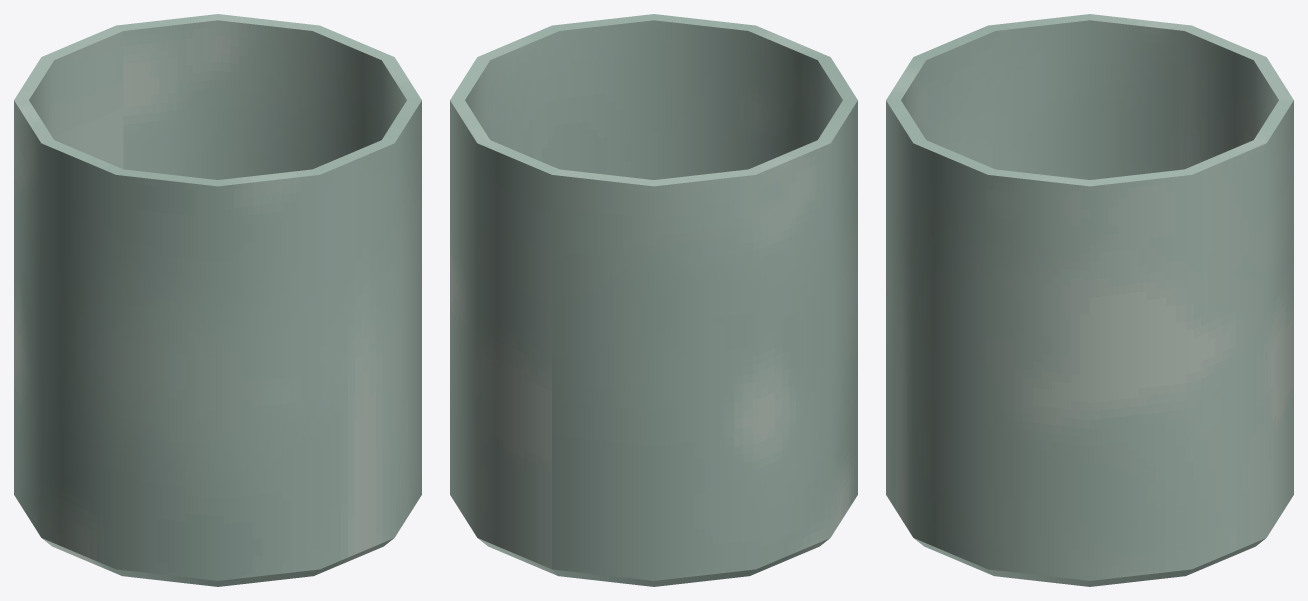
The model's file is HB_Glass_Tumbler.glb.
The picture shows the model from 3 angles, left to right: view 1: azimuth 30°, elevation 25°; view 2: azimuth 150°, elevation 25°; view 3: azimuth 270°, elevation 25°; orthographic projection.
Parts seen in each view (by area): view 1: HB_Glass_Tumbler; view 2: HB_Glass_Tumbler; view 3: HB_Glass_Tumbler.
Boxes of the visible parts, x1=… form: HB_Glass_Tumbler: x1=14, y1=14, x2=421, y2=586; HB_Glass_Tumbler: x1=450, y1=14, x2=857, y2=586; HB_Glass_Tumbler: x1=886, y1=14, x2=1293, y2=586.
Bounding box in the file's own units: 0.082 × 0.09 × 0.082.
1 material, 1 textured.
